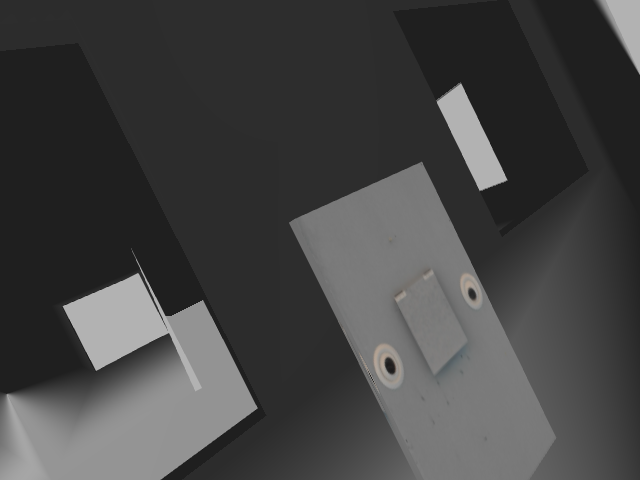facade: (368, 264, 484, 390)
